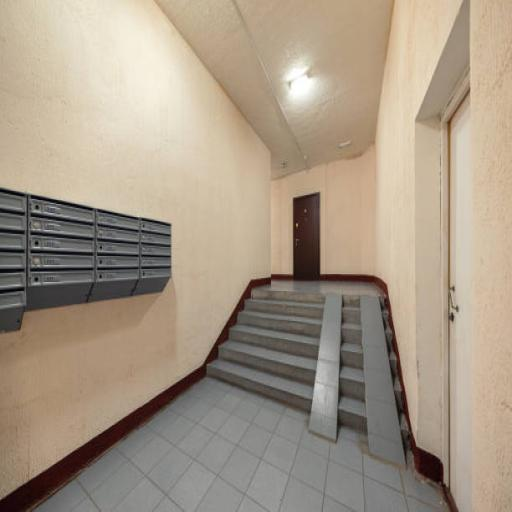ramp: (311, 294, 403, 462)
stairs: (207, 290, 323, 412)
